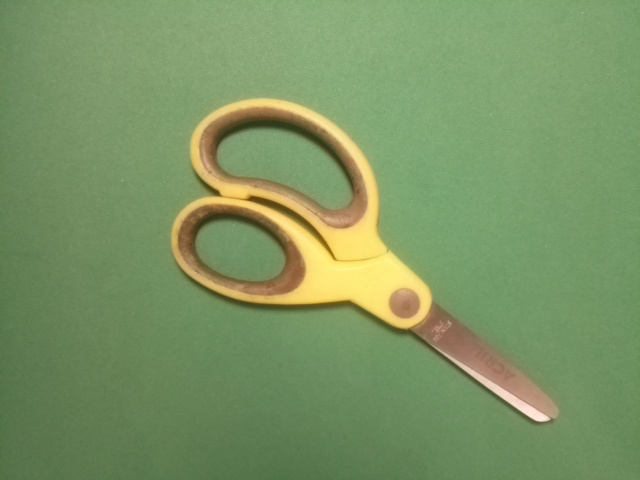Tesoura: (171, 97, 562, 426)
